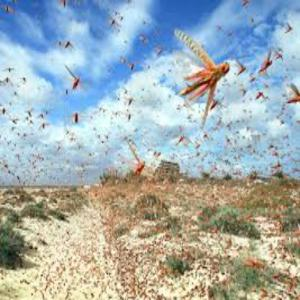locust: (169, 41, 237, 124), (55, 60, 92, 107), (122, 149, 161, 179)
